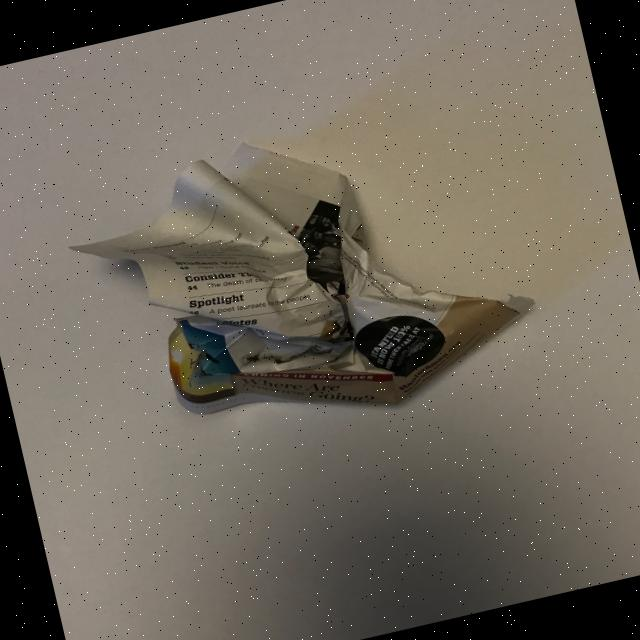paper: (54, 86, 546, 468)
